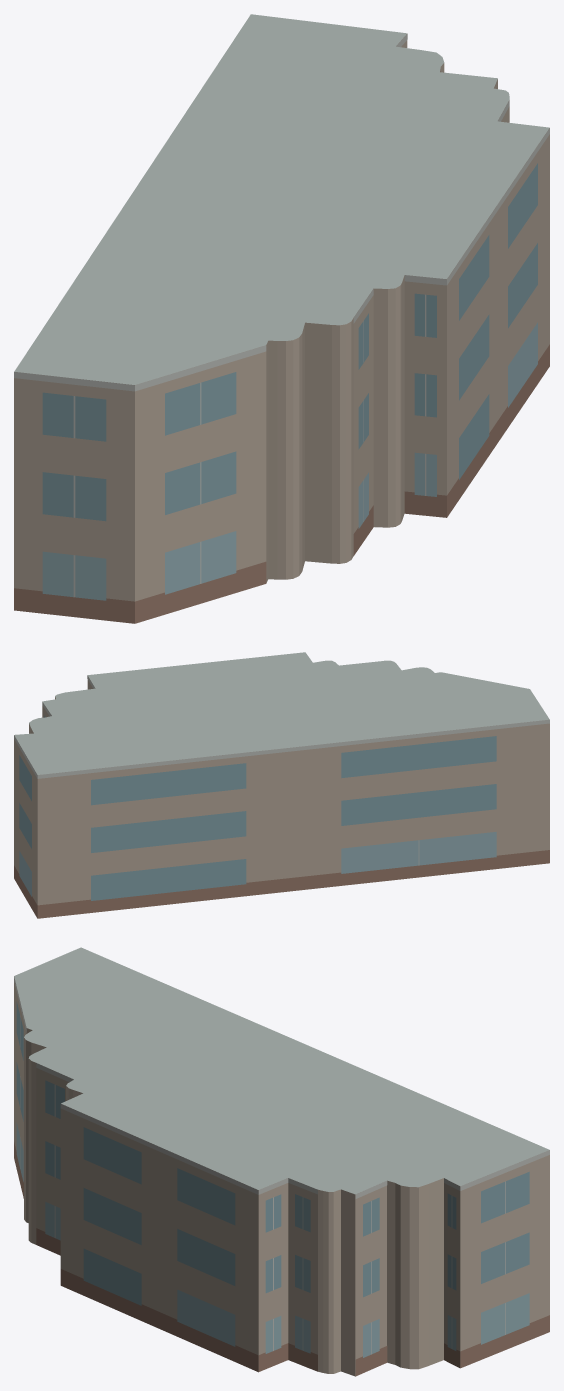
The model's file is survey-upis-32980285.glb.
3 views of the same model, one above another, from view 1: azimuth 30°, elevation 25°; view 2: azimuth 150°, elevation 25°; view 3: azimuth 270°, elevation 25° (orthographic). The views are drawn at different scales.
Parts seen in each view (by area): view 1: survey-upis-32980285.tmp; view 2: survey-upis-32980285.tmp; view 3: survey-upis-32980285.tmp.
Part boxes in pixels (x1,y1,x2,y2): survey-upis-32980285.tmp: (14,14,549,623); survey-upis-32980285.tmp: (14,652,549,918); survey-upis-32980285.tmp: (14,947,549,1376).
Bounding box in the file's own units: 26.64 × 9.15 × 24.41.
